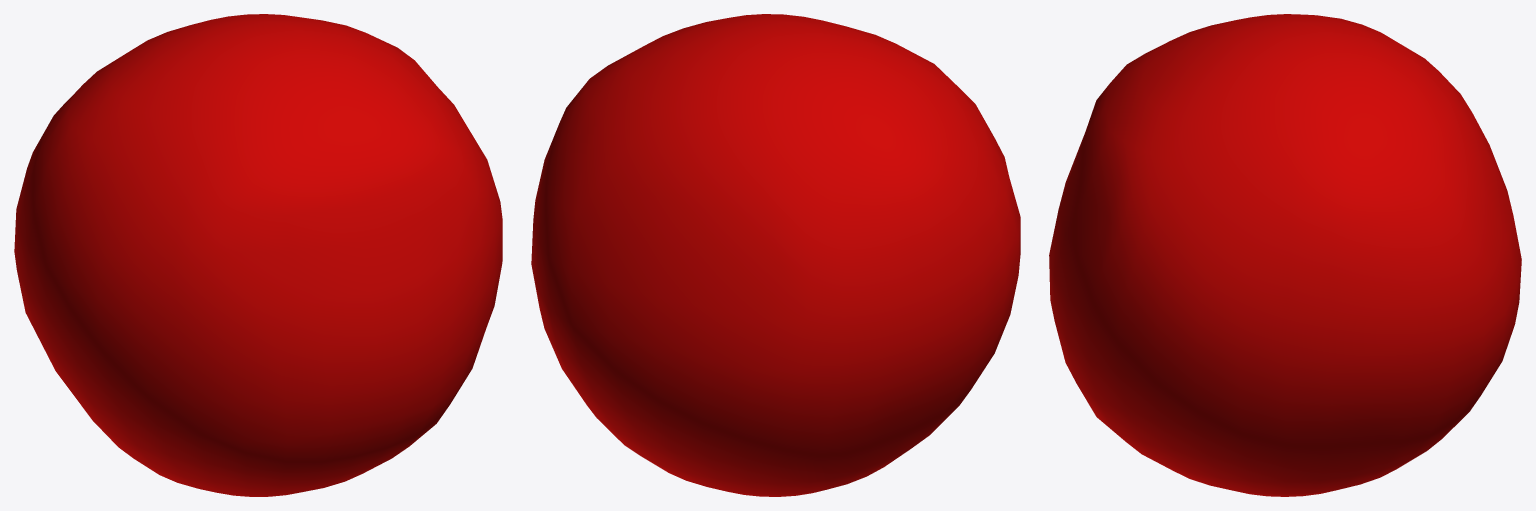
The model's file is redball.obj.
3 views of the same model, side by side, from view 1: azimuth 30°, elevation 25°; view 2: azimuth 150°, elevation 25°; view 3: azimuth 270°, elevation 25° (orthographic).
Parts seen in each view (by area): view 1: Sphere; view 2: Sphere; view 3: Sphere.
Part boxes in pixels (bbox=[...]): Sphere: bbox=[14, 14, 502, 496]; Sphere: bbox=[531, 14, 1020, 496]; Sphere: bbox=[1049, 14, 1521, 496].
Bounding box in the file's own units: 2.02 × 2 × 1.96.
